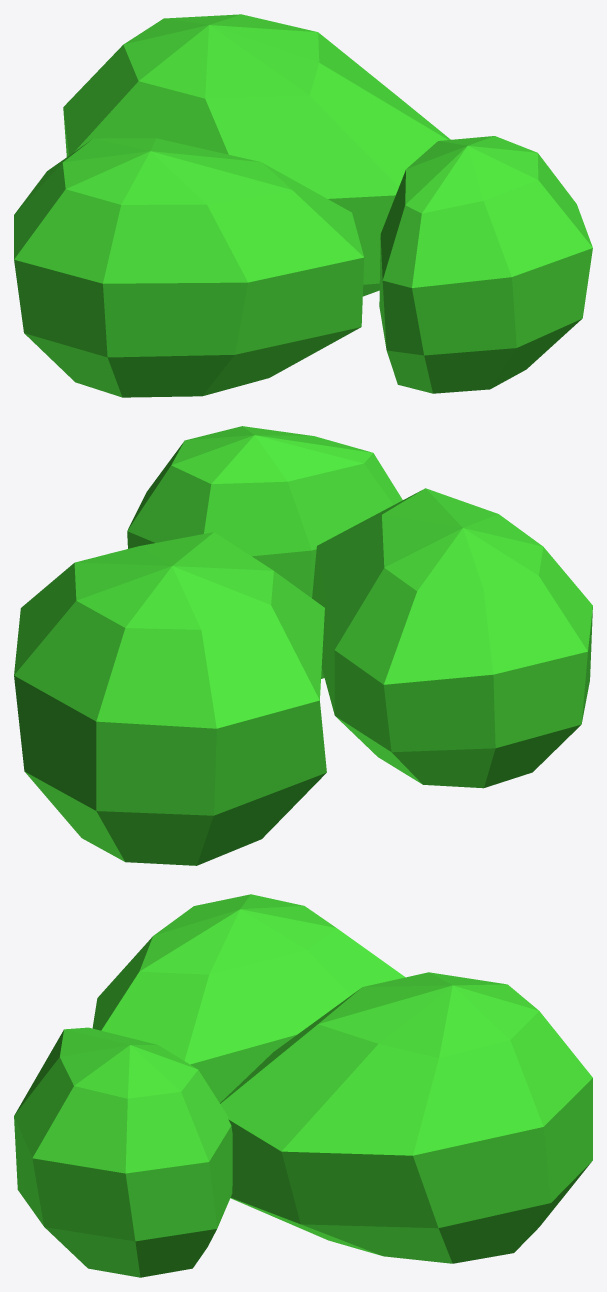
File: ARBOL.glb
3 views of the same model, one above another, from view 1: azimuth 30°, elevation 25°; view 2: azimuth 150°, elevation 25°; view 3: azimuth 270°, elevation 25° (orthographic). The views are drawn at different scales.
Parts seen in each view (by area): view 1: Sphere.001; view 2: Sphere.001; view 3: Sphere.001.
Part boxes in pixels (left/top/right/bottom): Sphere.001: left=14, top=14, right=592, bottom=397; Sphere.001: left=14, top=426, right=592, bottom=865; Sphere.001: left=14, top=894, right=592, bottom=1277.
Size of the model in its own units: 1.99 by 1.08 by 2.11.
